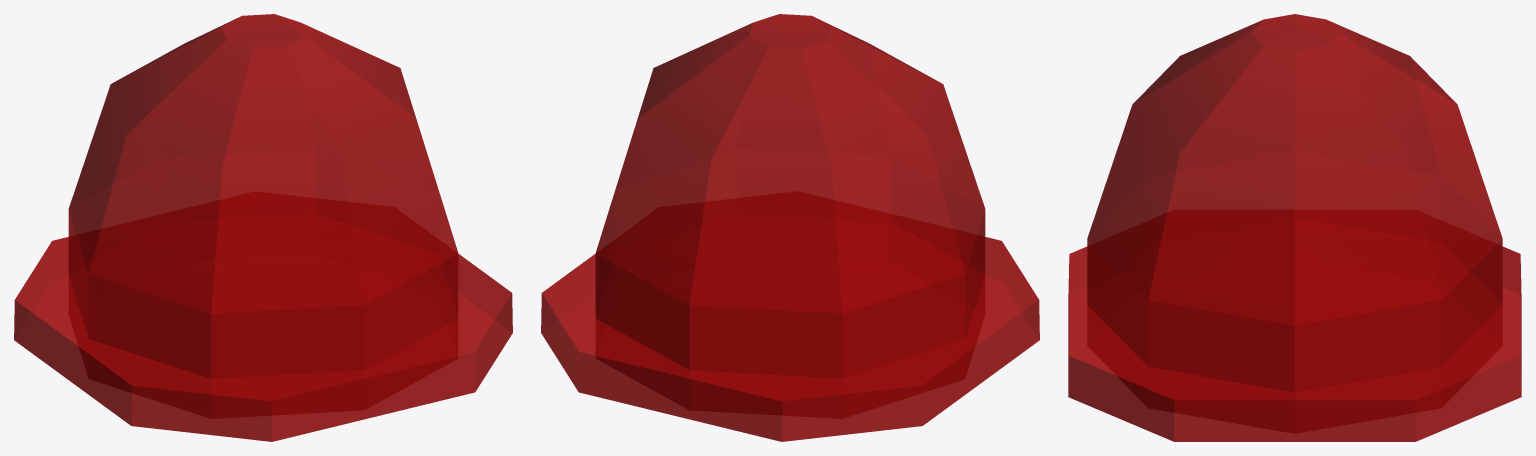
The model's file is SM_Bld_Village_Dome_01_Collision.fbx.
The picture shows the model from 3 angles, left to right: view 1: azimuth 30°, elevation 25°; view 2: azimuth 150°, elevation 25°; view 3: azimuth 270°, elevation 25°; orthographic projection. The views are drawn at different scales.
Visible parts, largest first — view 1: SM_Bld_Village_Dome_01_Collision; view 2: SM_Bld_Village_Dome_01_Collision; view 3: SM_Bld_Village_Dome_01_Collision.
Boxes of the visible parts, x1,y1,x2,y2 form: SM_Bld_Village_Dome_01_Collision: (14,14,512,441); SM_Bld_Village_Dome_01_Collision: (541,14,1039,441); SM_Bld_Village_Dome_01_Collision: (1068,14,1521,441).
Size of the model in its own units: 354 by 270 by 354.
